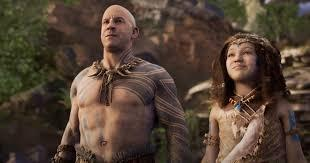Persons: (213, 32, 282, 96), (92, 0, 147, 61)
